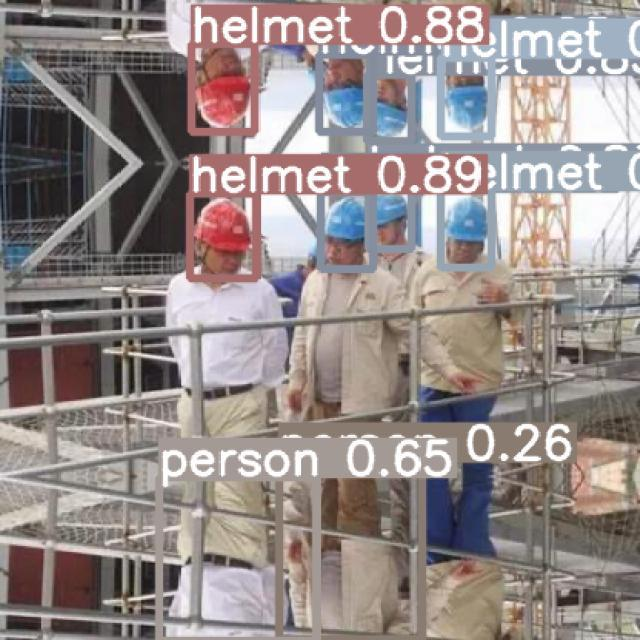blue helmet: (434, 184, 504, 254), (443, 76, 511, 141), (319, 184, 374, 256), (369, 189, 419, 249), (321, 84, 371, 134), (371, 86, 419, 134)
red helmet: (188, 191, 266, 269), (189, 66, 261, 138)
